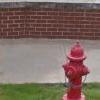Hydrant: (55, 32, 95, 100)
